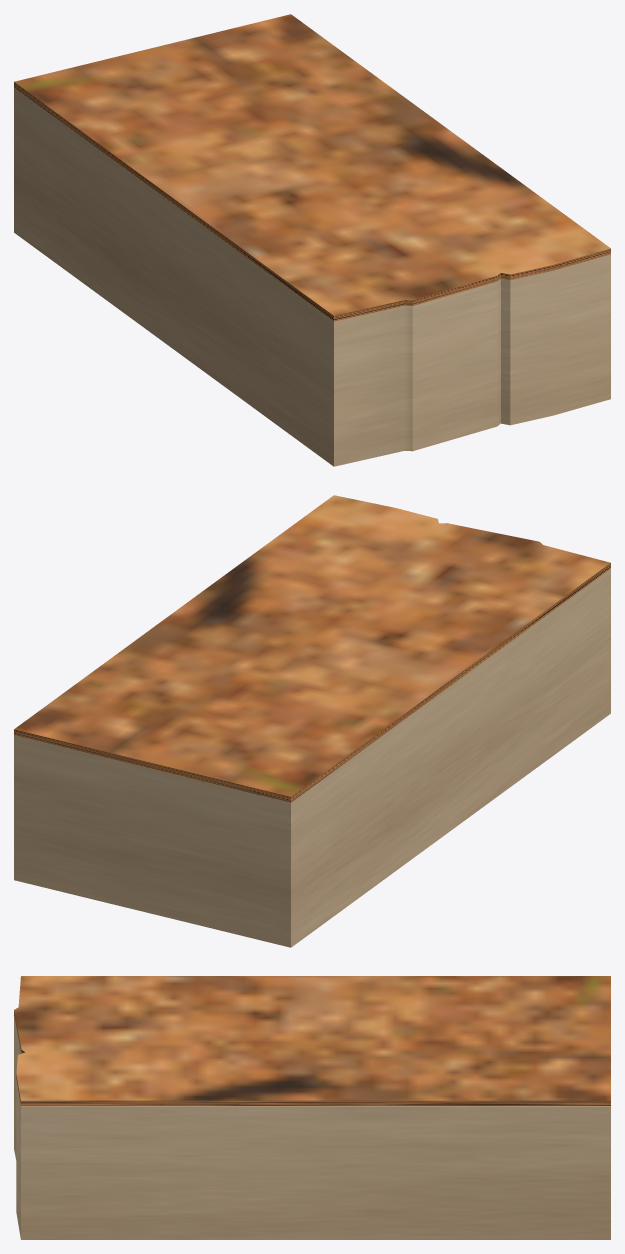
Rendered from Border_3(3).fbx.
3 views of the same model, one above another, from view 1: azimuth 30°, elevation 25°; view 2: azimuth 150°, elevation 25°; view 3: azimuth 270°, elevation 25° (orthographic). The views are drawn at different scales.
Visible parts, largest first — view 1: BORDER_3_TOP, BORDER_3; view 2: BORDER_3_TOP, BORDER_3; view 3: BORDER_3, BORDER_3_TOP.
Part boxes in pixels (x1=…): BORDER_3_TOP: x1=14, y1=14, x2=610, y2=321; BORDER_3: x1=14, y1=88, x2=610, y2=466; BORDER_3_TOP: x1=14, y1=495, x2=610, y2=802; BORDER_3: x1=14, y1=569, x2=610, y2=947; BORDER_3: x1=14, y1=1016, x2=610, y2=1239; BORDER_3_TOP: x1=14, y1=976, x2=610, y2=1105.
Size of the model in its own units: 5000 by 2601 by 10119.
Materials: 2 (2 with a texture image).
